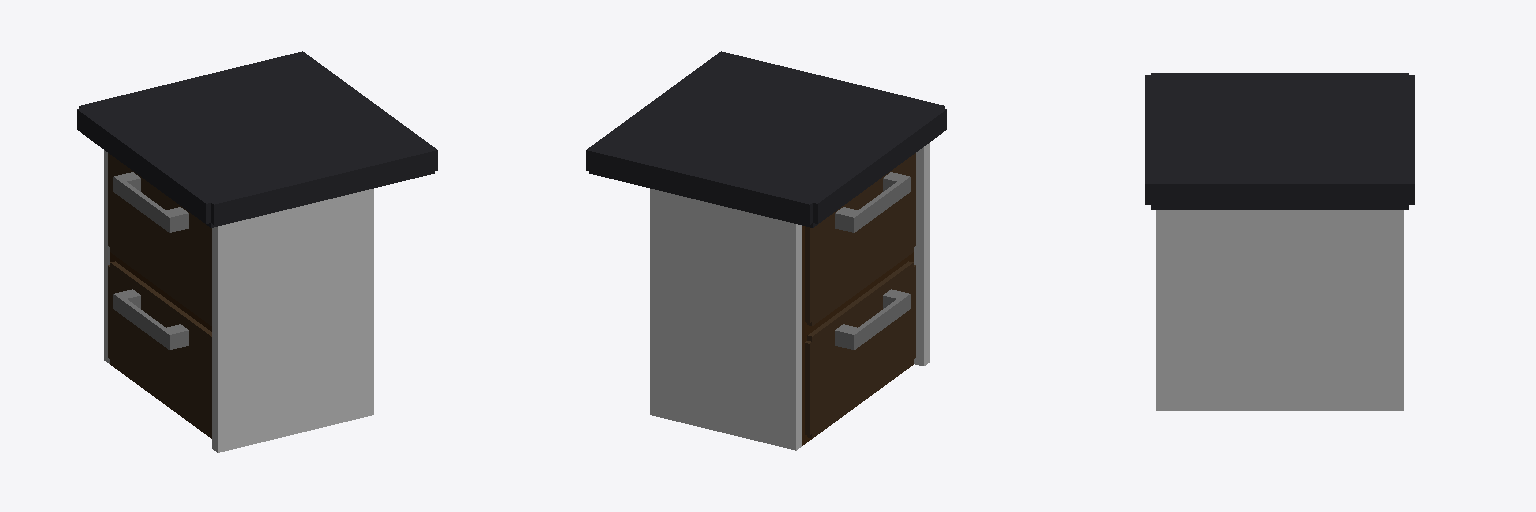
The picture shows the model from 3 angles: view 1: azimuth 30°, elevation 25°; view 2: azimuth 150°, elevation 25°; view 3: azimuth 270°, elevation 25°; orthographic projection.
Parts seen in each view (by area): view 1: object 1; view 2: object 1; view 3: object 1.
Boxes of the visible parts, <box> form: object 1: <box>77,51,437,452</box>; object 1: <box>586,51,946,450</box>; object 1: <box>1145,73,1414,410</box>.
Size of the model in its own units: 4.7 by 5 by 4.8.
1 materials, 1 textured.